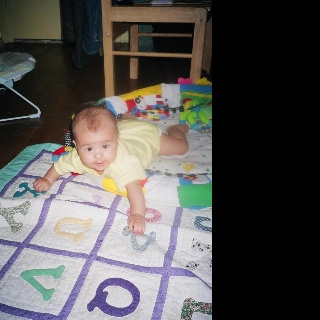without_mask: (76, 129, 118, 172)
